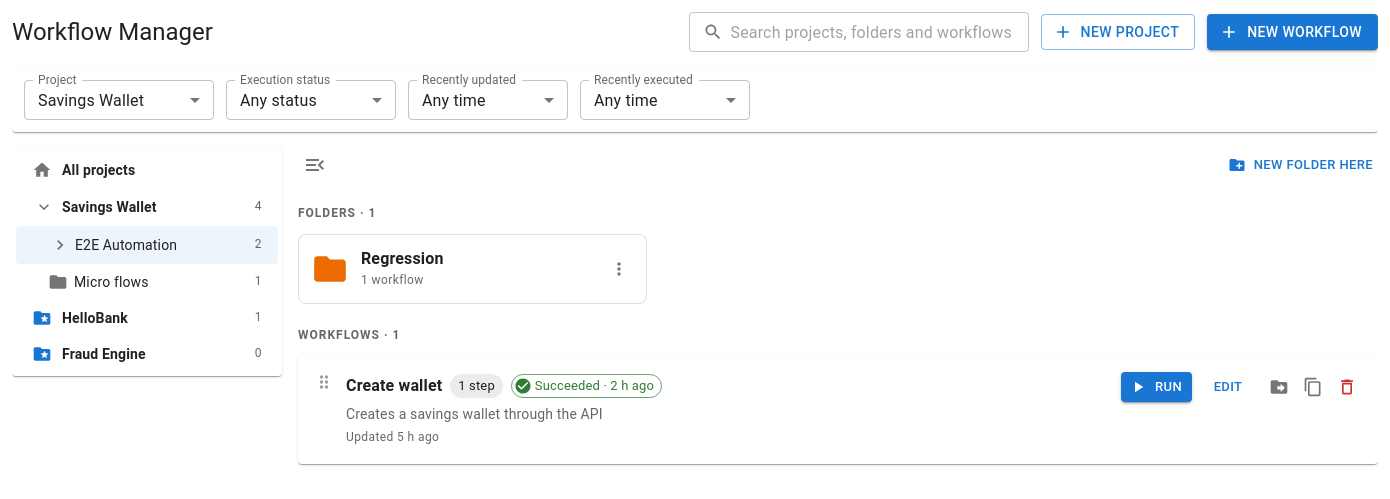
Folders and workflows levels › shows name, step count, last execution status and the Run / Edit / Move / Delete actions on a workflow
Expected: the heading "Create wallet" is shown, [346, 372, 442, 400]
Expected: the text "Creates a savings wallet through the API" is shown, [346, 406, 603, 422]
Click the button with aria-label "open folder Regression": (330,269) [298, 234, 647, 304]
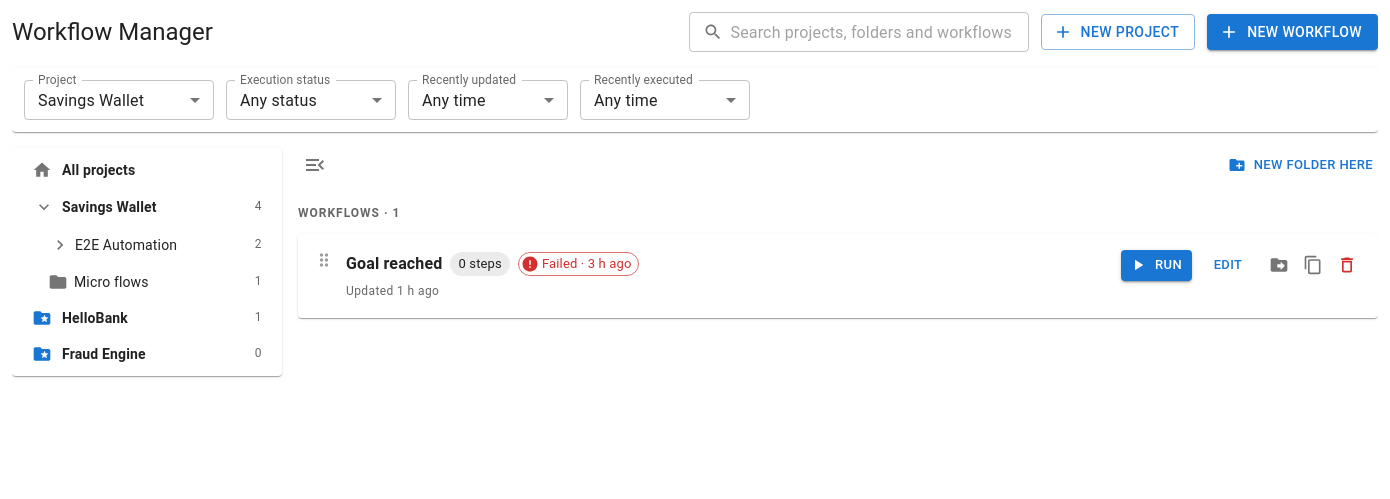
Expected: the text "Failed · 3 h ago" is shown, [535, 254, 638, 274]
Click the button with aria-label "tree project Savings Wallet": (147,207) [16, 188, 278, 226]
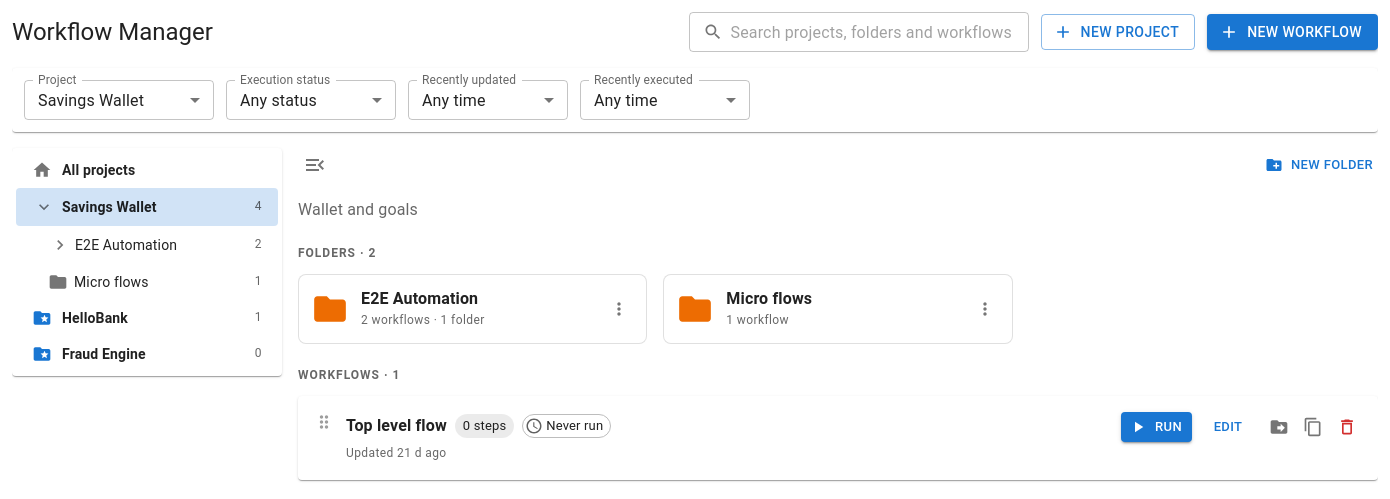
Click the button with aria-label "open folder Micro flows": (695,309) [663, 274, 1013, 344]
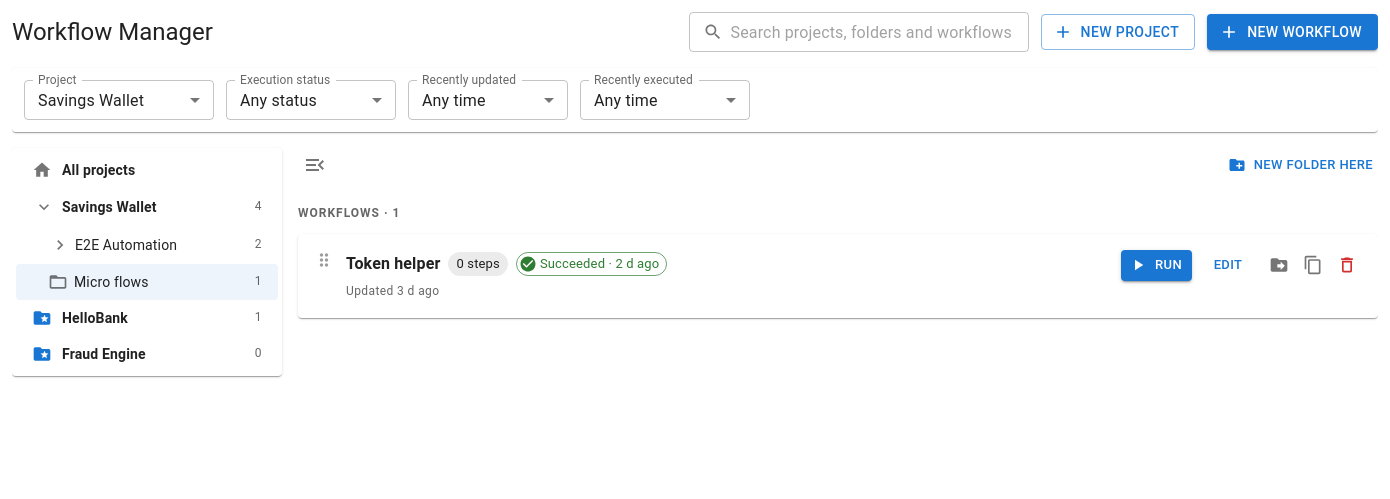
Expected: the element with test id "workflow-4" is shown, [298, 234, 1378, 318]
